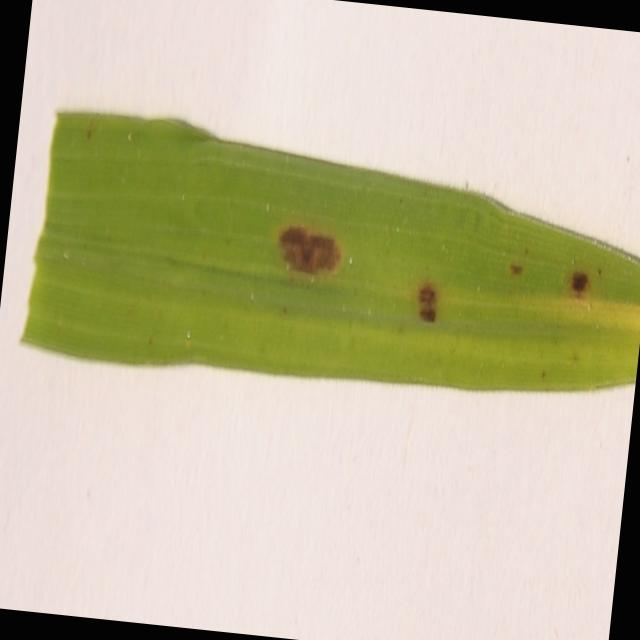leaf_spot: (20, 113, 640, 391)
